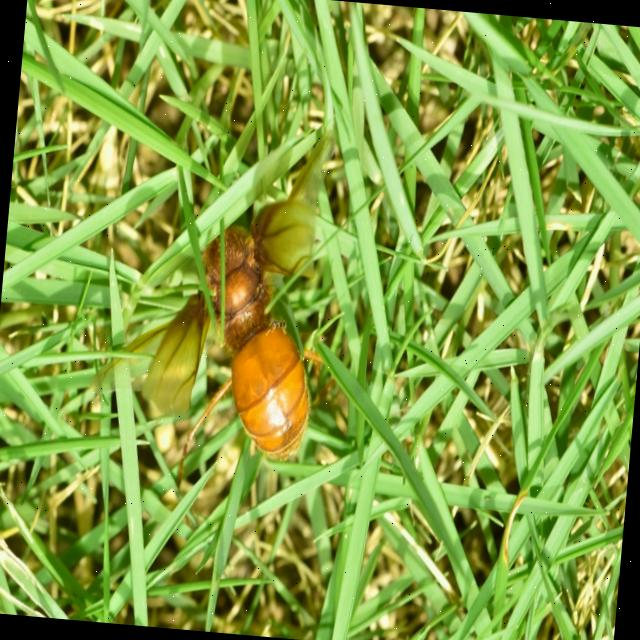Alive-Male-Alate: (78, 108, 344, 502)
